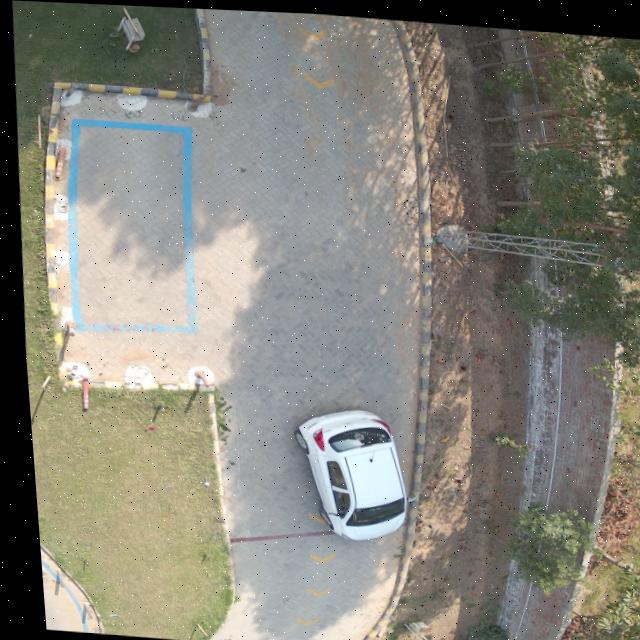car: (287, 406, 398, 538)
